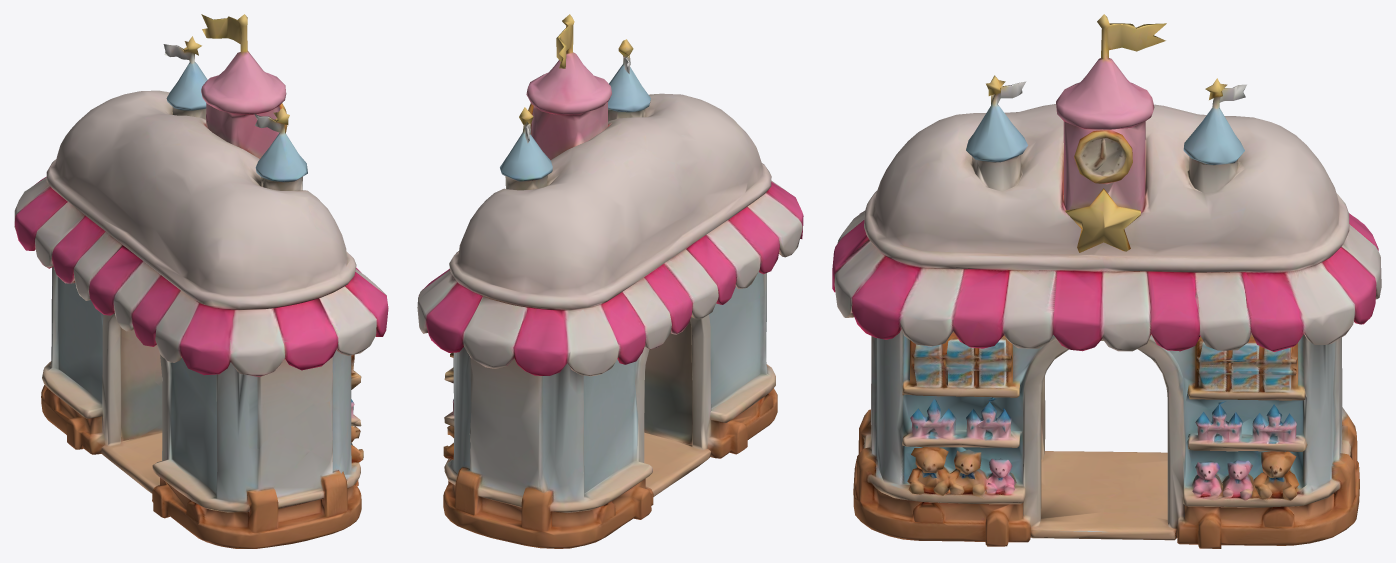
File: gift_shop.glb
The picture shows the model from 3 angles, left to right: view 1: azimuth 30°, elevation 25°; view 2: azimuth 150°, elevation 25°; view 3: azimuth 270°, elevation 25°; orthographic projection. The views are drawn at different scales.
Parts seen in each view (by area): view 1: tripo_node_b35eb2b9-220b-440f-972d-813c5e1084b1; view 2: tripo_node_b35eb2b9-220b-440f-972d-813c5e1084b1; view 3: tripo_node_b35eb2b9-220b-440f-972d-813c5e1084b1.
Boxes of the visible parts, x1=… form: tripo_node_b35eb2b9-220b-440f-972d-813c5e1084b1: x1=14, y1=14, x2=388, y2=548; tripo_node_b35eb2b9-220b-440f-972d-813c5e1084b1: x1=417, y1=14, x2=803, y2=548; tripo_node_b35eb2b9-220b-440f-972d-813c5e1084b1: x1=832, y1=14, x2=1381, y2=548.
Bounding box in the file's own units: 0.1855 × 0.35 × 0.341.
Materials: 1 (1 with a texture image).
